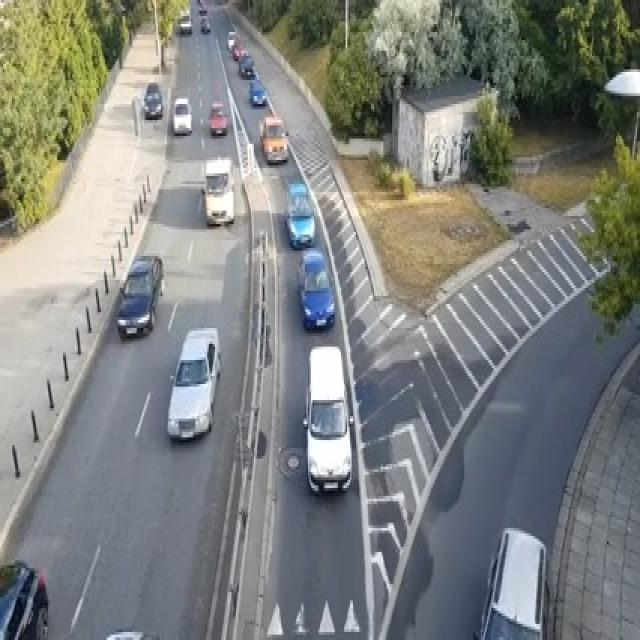car: (472, 526, 550, 638), (302, 344, 352, 493), (167, 325, 221, 440), (115, 253, 163, 339), (0, 558, 48, 638), (297, 248, 335, 331), (202, 155, 234, 224), (286, 179, 316, 248), (257, 114, 288, 162), (207, 99, 227, 136), (172, 96, 192, 133), (141, 83, 162, 117), (90, 630, 165, 638), (249, 77, 266, 104), (237, 54, 254, 78), (231, 40, 248, 59), (179, 10, 192, 34), (227, 29, 239, 51), (198, 16, 210, 32), (198, 0, 205, 13)
